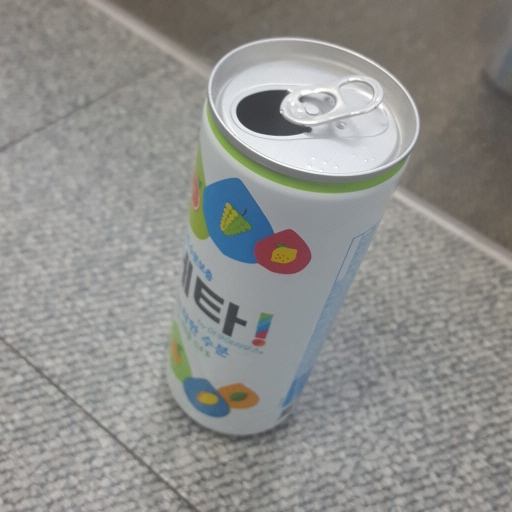Metal_0: (161, 36, 420, 443)
